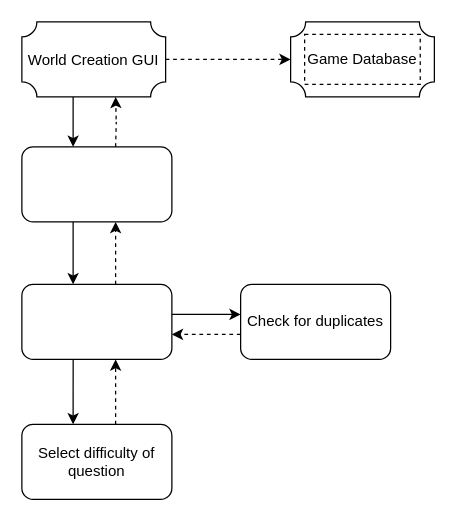
Image size: 456x521. Some labels were removed from this diagram. Each missing label, with the box of its shape:
Create a new question: (21, 283, 172, 359)
Selection of number of levels to be included in the world: (21, 146, 172, 222)
